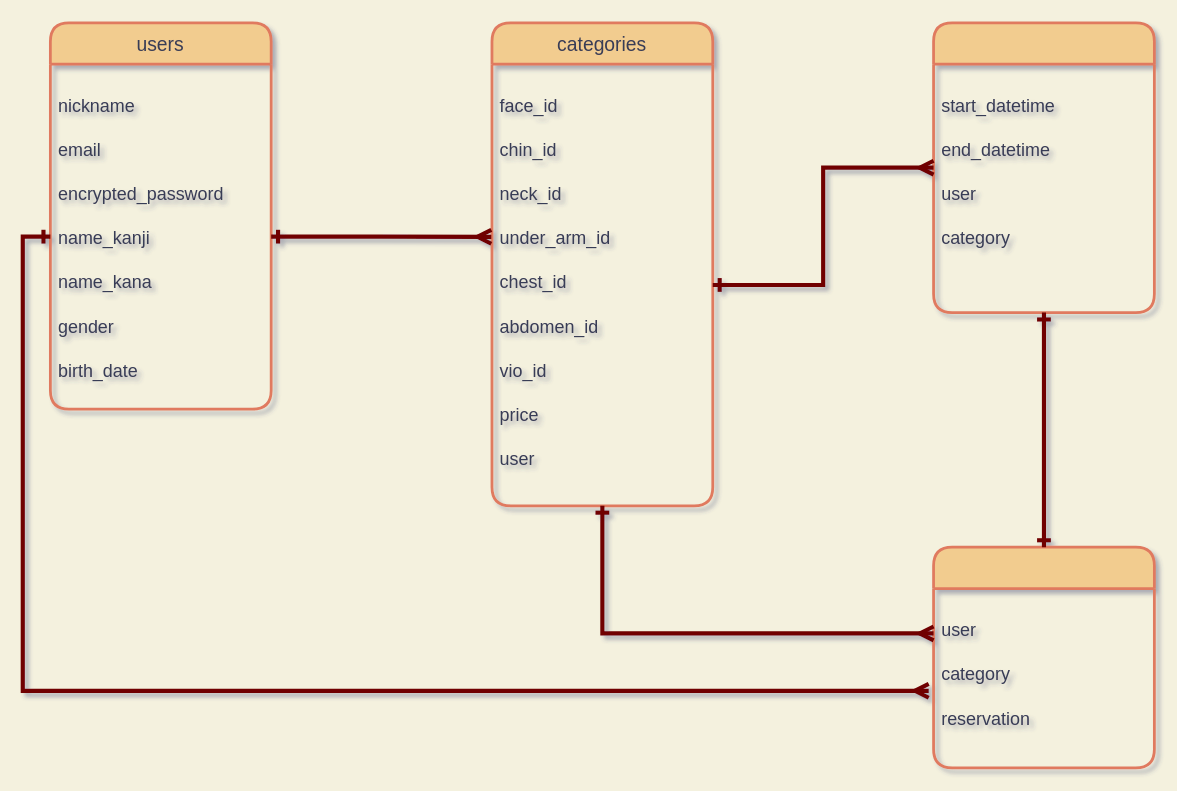
Some shapes in this 1177 by 791 pixel diagram are drawn without their labels. The box of each missing label's shape, as (x1, y1, x2, y2) in pixels:
credits: (931, 545, 1155, 769)
reservation: (931, 21, 1155, 313)
